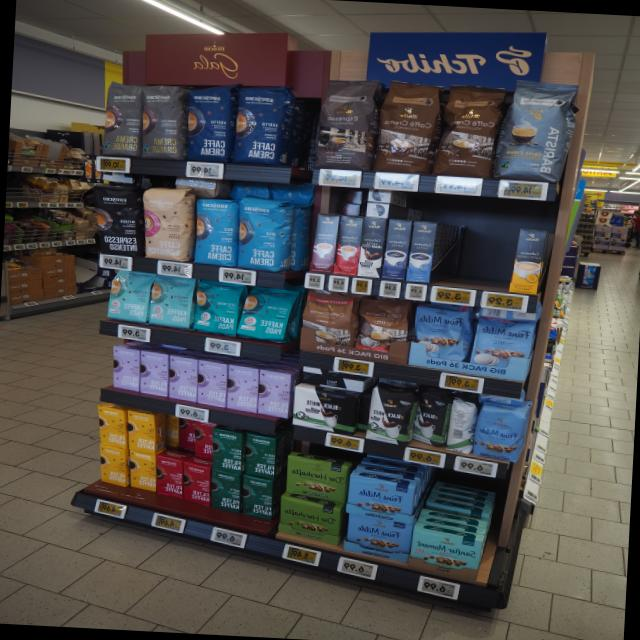BM Gemahlen: (291, 385, 359, 437)
BW Bohne: (364, 381, 422, 448), (412, 387, 454, 449)
Barista CC: (491, 78, 582, 186)
CC Vollmundig: (354, 296, 416, 358), (298, 292, 361, 352)
CC Vollmundig 36 Pads: (430, 82, 510, 180), (369, 78, 447, 177)
Empty Shelf: (412, 486, 492, 539), (449, 224, 490, 289), (482, 226, 518, 292)
Espresso Aromatisch: (308, 74, 387, 175)
FM 36 Pads: (467, 314, 537, 374), (412, 303, 476, 367)
FM Bohne: (470, 402, 532, 465)
FM Gemahlen: (345, 473, 421, 525), (344, 513, 413, 563)
Herzhatfe Mundig: (277, 494, 343, 546), (285, 454, 350, 505)
SM Gemahlen: (407, 527, 485, 580)
Simo CCMild bigpack: (509, 228, 548, 295)
Simo Es Elegant: (333, 215, 364, 276)
Simo Es Kraft: (309, 213, 341, 274)
Simo Kaffee BW: (357, 217, 388, 279)
Simo Kaffee Kraft: (380, 219, 413, 282)
Simo Kaffee Mild: (405, 220, 438, 284)
